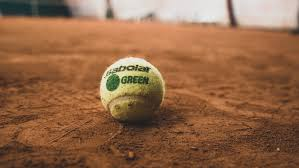tennis_ball: (98, 56, 165, 125)
